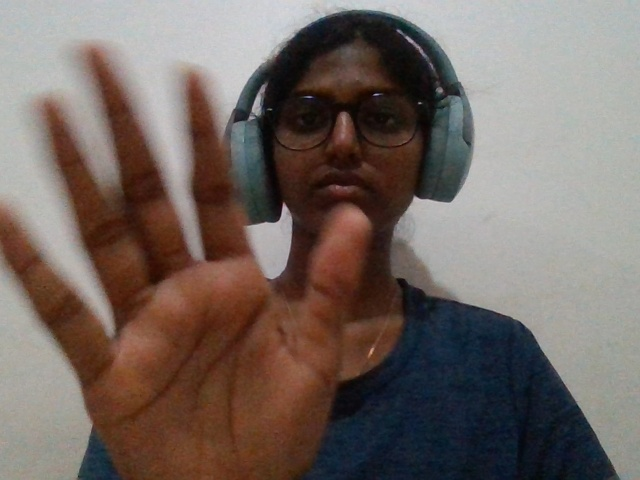Bye: (1, 38, 368, 480)
